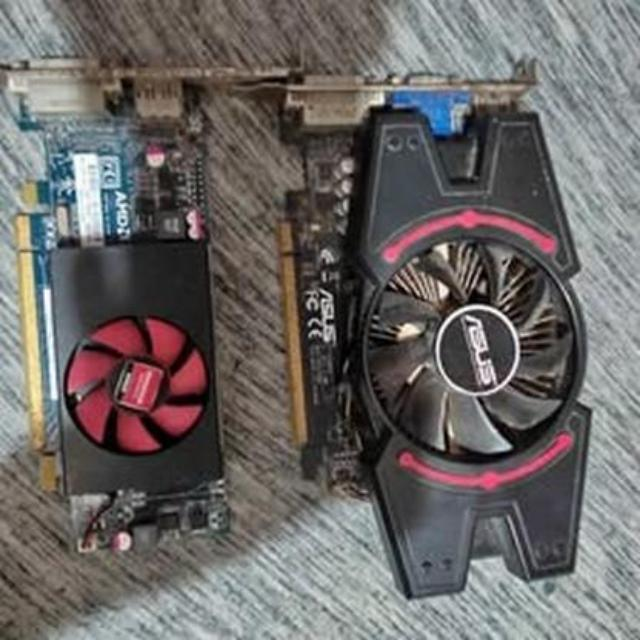GPU: (269, 54, 603, 598), (0, 41, 245, 552)
